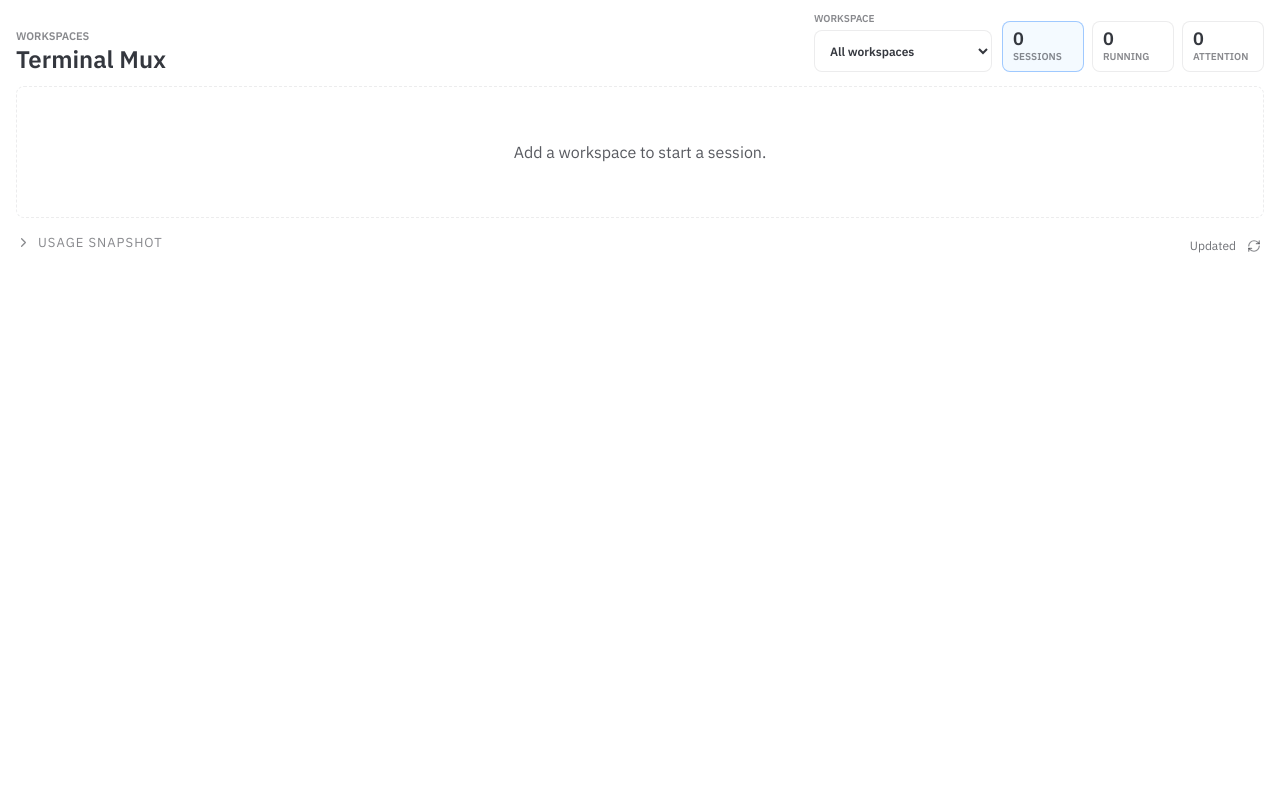
Test: Home › renders usage cards in time mode
The width and height of the screenshot is (1280, 800).
Click the button with aria-label "Show usage snapshot": (89, 242) [16,230,163,255]
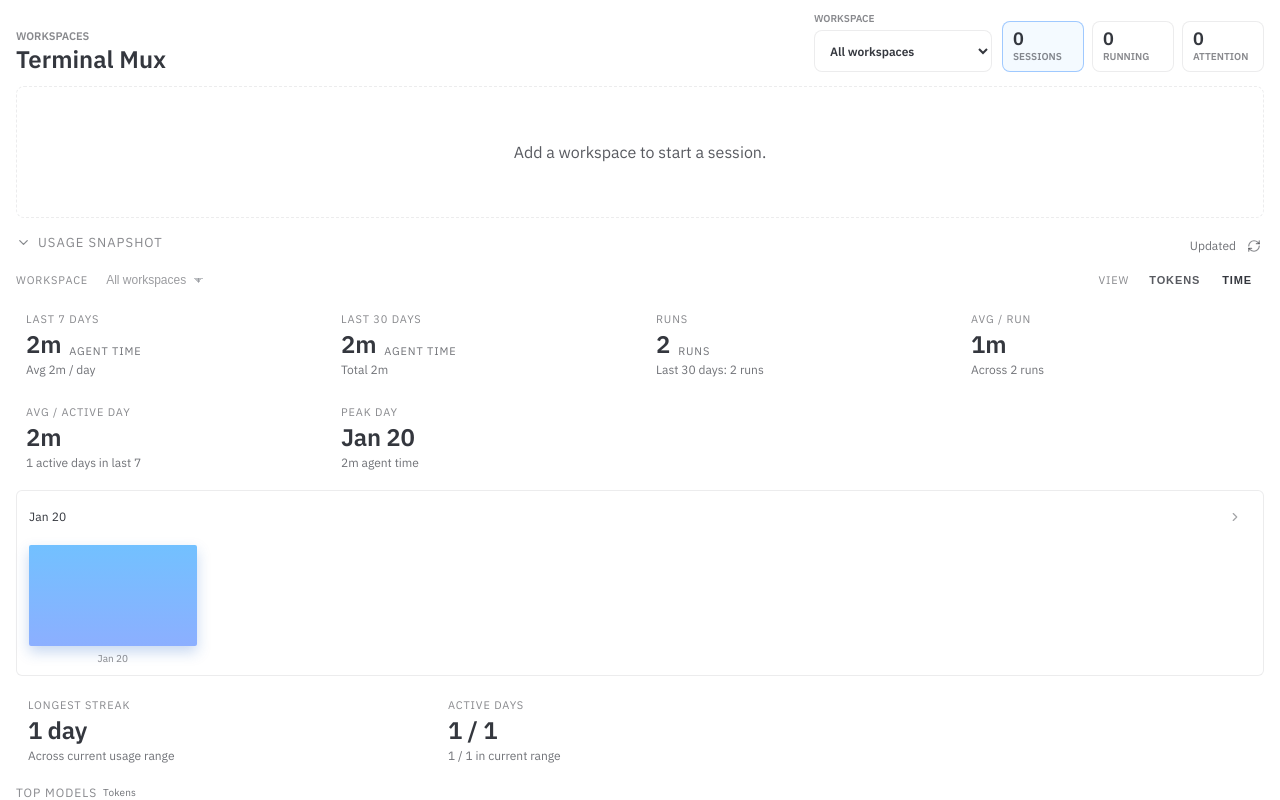
Expected: the text "agent time" below "Last 7 days" is shown, [69,344,142,358]
Expected: the text "Runs" is shown, [656,312,688,326]
Expected: the text "Peak day" is shown, [341,404,398,418]
